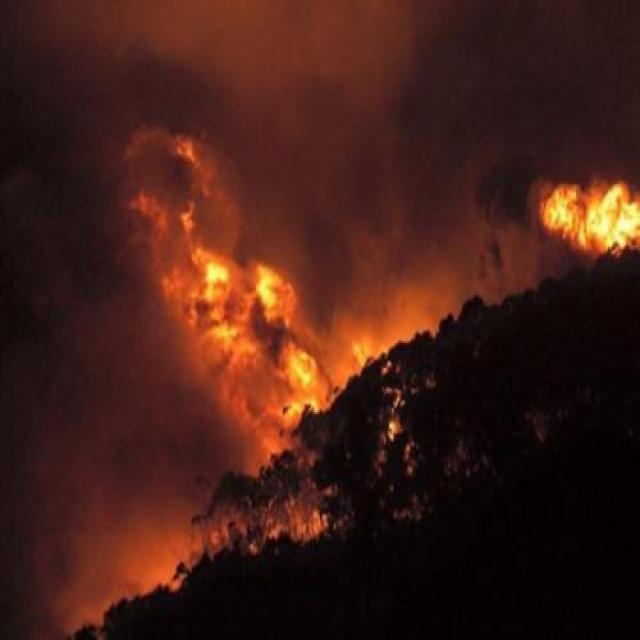fire: (120, 98, 360, 530), (477, 151, 633, 268)
smoke: (241, 34, 482, 299)
